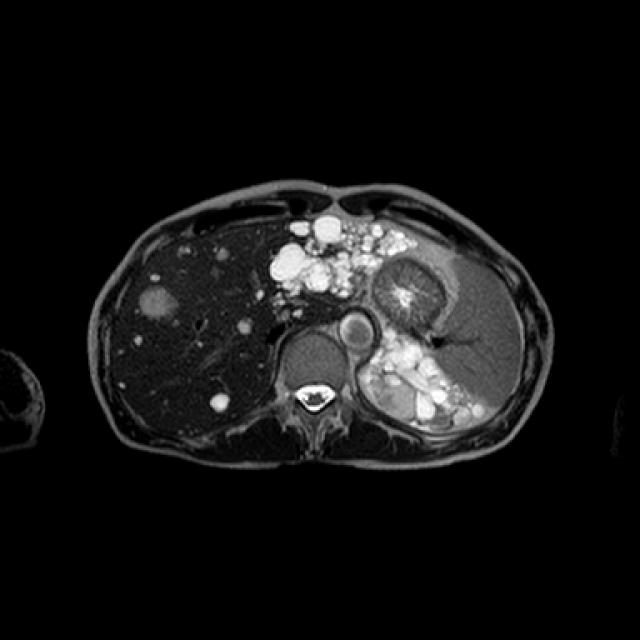sol: (360, 318, 502, 436)
